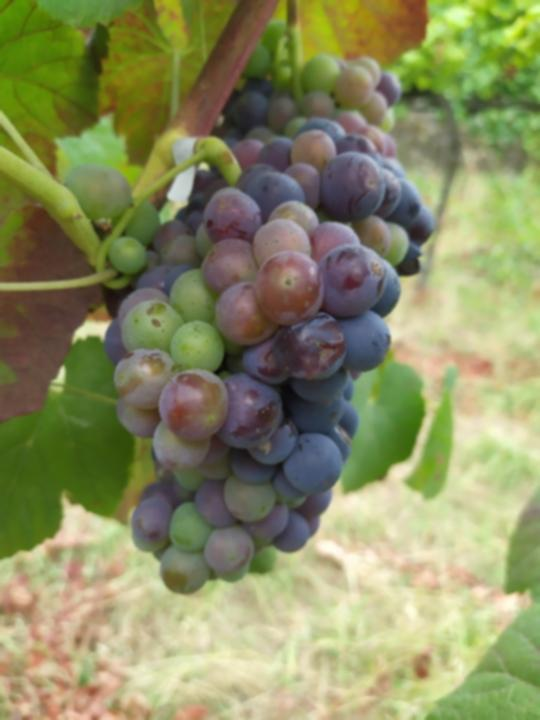grape: (101, 115, 404, 597)
